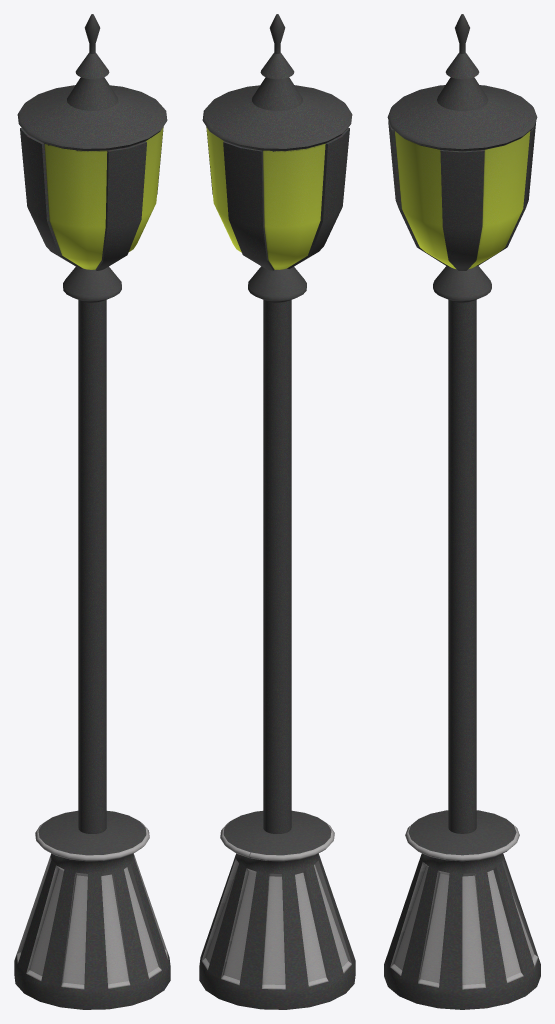
Rendered from lightPost.fbx.
3 renders of one model, left to right at view 1: azimuth 30°, elevation 25°; view 2: azimuth 150°, elevation 25°; view 3: azimuth 270°, elevation 25°, orthographic.
Parts seen in each view (by area): view 1: pCylinder1; view 2: pCylinder1; view 3: pCylinder1.
Boxes of the visible parts, x1,y1,x2,y2 form: pCylinder1: [14, 14, 170, 1009]; pCylinder1: [199, 14, 355, 1009]; pCylinder1: [384, 14, 540, 1009].
Bounding box in the file's own units: 0.4206 × 2.83 × 0.4181.
